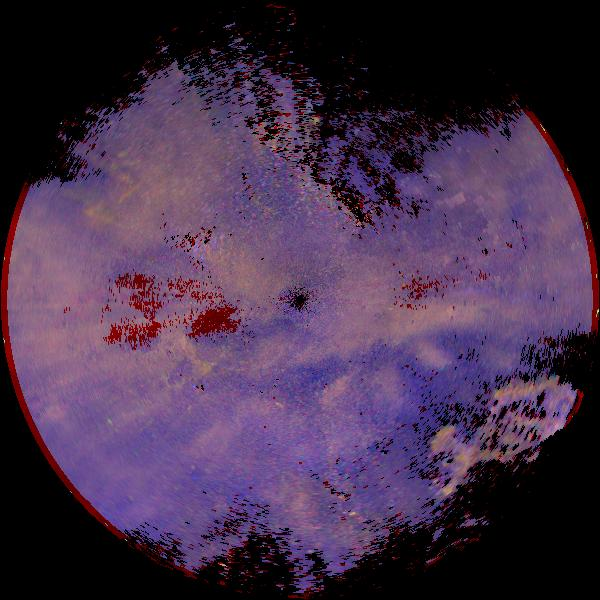roost: (120, 316, 225, 421)
